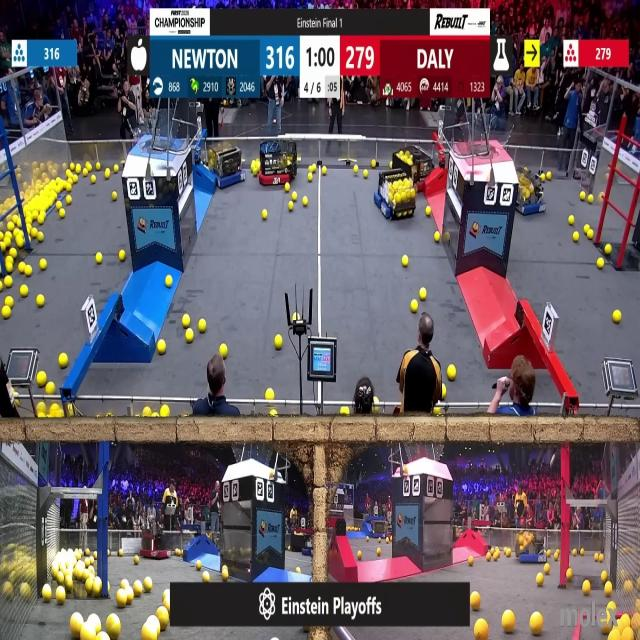ball_ground: (530, 614, 543, 636), (71, 616, 83, 639), (502, 612, 514, 634), (108, 617, 120, 637), (158, 611, 168, 631), (469, 592, 479, 611), (142, 625, 154, 640), (57, 589, 67, 605), (42, 587, 52, 603), (94, 580, 102, 598), (583, 582, 592, 596), (134, 583, 143, 597), (601, 622, 610, 636), (275, 336, 283, 351), (38, 372, 46, 387), (448, 364, 456, 379), (60, 353, 68, 368), (117, 593, 125, 608), (144, 580, 153, 593), (84, 579, 93, 592), (158, 341, 166, 355), (219, 344, 227, 358), (604, 584, 612, 598), (185, 328, 192, 342), (199, 320, 207, 332), (267, 388, 275, 400), (45, 382, 53, 394), (127, 592, 135, 604), (66, 577, 74, 589), (536, 572, 543, 585), (221, 567, 228, 580), (162, 407, 170, 418), (21, 285, 29, 296), (143, 408, 151, 419), (182, 315, 189, 327), (412, 301, 419, 313), (419, 288, 426, 300), (3, 307, 10, 319), (615, 311, 622, 323), (26, 266, 33, 278), (37, 294, 44, 306), (16, 236, 23, 248), (4, 277, 12, 287), (401, 255, 408, 266), (204, 571, 211, 582), (166, 276, 173, 287), (597, 257, 604, 268), (118, 250, 125, 261), (6, 295, 13, 306), (5, 263, 12, 274), (40, 260, 46, 272), (442, 386, 448, 398), (566, 568, 572, 580), (601, 570, 607, 582), (252, 164, 258, 176), (588, 231, 595, 241), (604, 245, 611, 255), (0, 241, 7, 251), (31, 230, 38, 240), (97, 252, 103, 263), (38, 212, 44, 223), (37, 234, 44, 243), (607, 601, 614, 610), (434, 233, 440, 243), (195, 560, 201, 570), (263, 210, 269, 220), (18, 264, 24, 274), (579, 190, 585, 200), (165, 598, 171, 608), (433, 409, 440, 417), (270, 411, 278, 418), (467, 557, 473, 566), (303, 198, 309, 207), (572, 233, 578, 242), (10, 248, 16, 257), (134, 556, 140, 565), (66, 182, 72, 191), (75, 166, 81, 175), (7, 222, 13, 231), (61, 209, 66, 219), (288, 202, 293, 212), (543, 564, 548, 574), (589, 193, 594, 203), (568, 216, 574, 224), (308, 174, 314, 182), (362, 170, 368, 178), (370, 162, 376, 170), (284, 183, 290, 191), (72, 175, 78, 183), (57, 202, 63, 210), (505, 550, 511, 558), (66, 170, 72, 178), (119, 582, 125, 590), (105, 170, 110, 179), (579, 550, 584, 559), (599, 554, 604, 563), (344, 410, 350, 417), (112, 191, 117, 199), (67, 197, 72, 205), (357, 553, 362, 561), (555, 553, 560, 561), (595, 554, 600, 562), (82, 168, 87, 176), (120, 551, 125, 559), (487, 554, 492, 562), (426, 207, 430, 216), (546, 172, 550, 181), (97, 634, 103, 640), (92, 176, 97, 183), (353, 167, 358, 174), (177, 550, 182, 557), (295, 567, 300, 574), (309, 166, 314, 173), (292, 191, 296, 199), (114, 166, 118, 174), (322, 168, 326, 176), (97, 164, 101, 172), (585, 224, 589, 232), (0, 234, 4, 242), (292, 314, 296, 322), (572, 550, 576, 557), (89, 166, 93, 173), (378, 549, 381, 557)
goal: (461, 118, 516, 158), (128, 116, 186, 152)
robot_blue: (374, 168, 417, 222), (202, 140, 244, 190), (516, 173, 546, 218), (516, 528, 547, 563), (369, 520, 393, 540), (296, 533, 314, 554)
robot_red: (259, 138, 301, 185), (139, 530, 174, 558)
